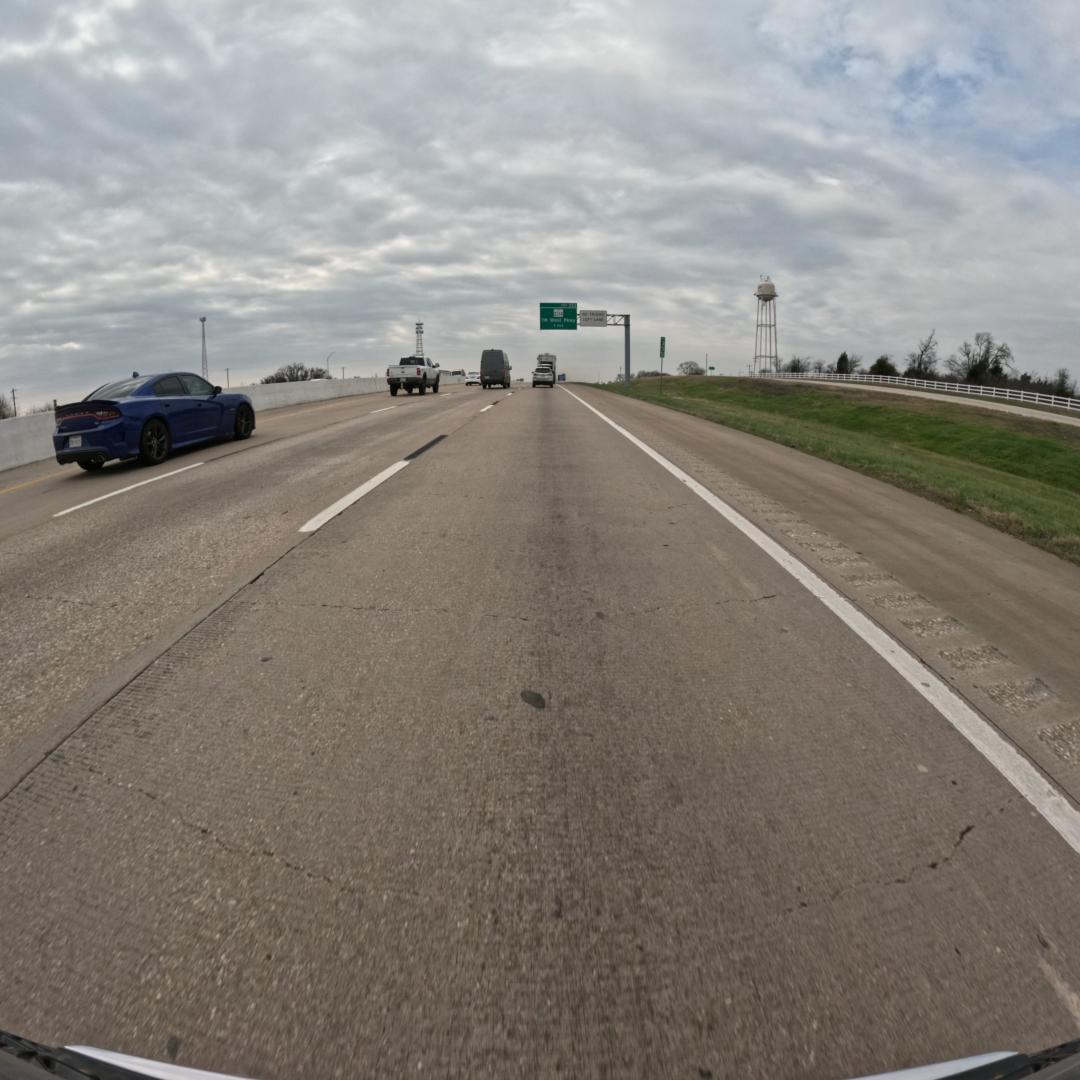lane0: (1, 386, 1080, 1080)
lane1: (0, 387, 522, 799)
